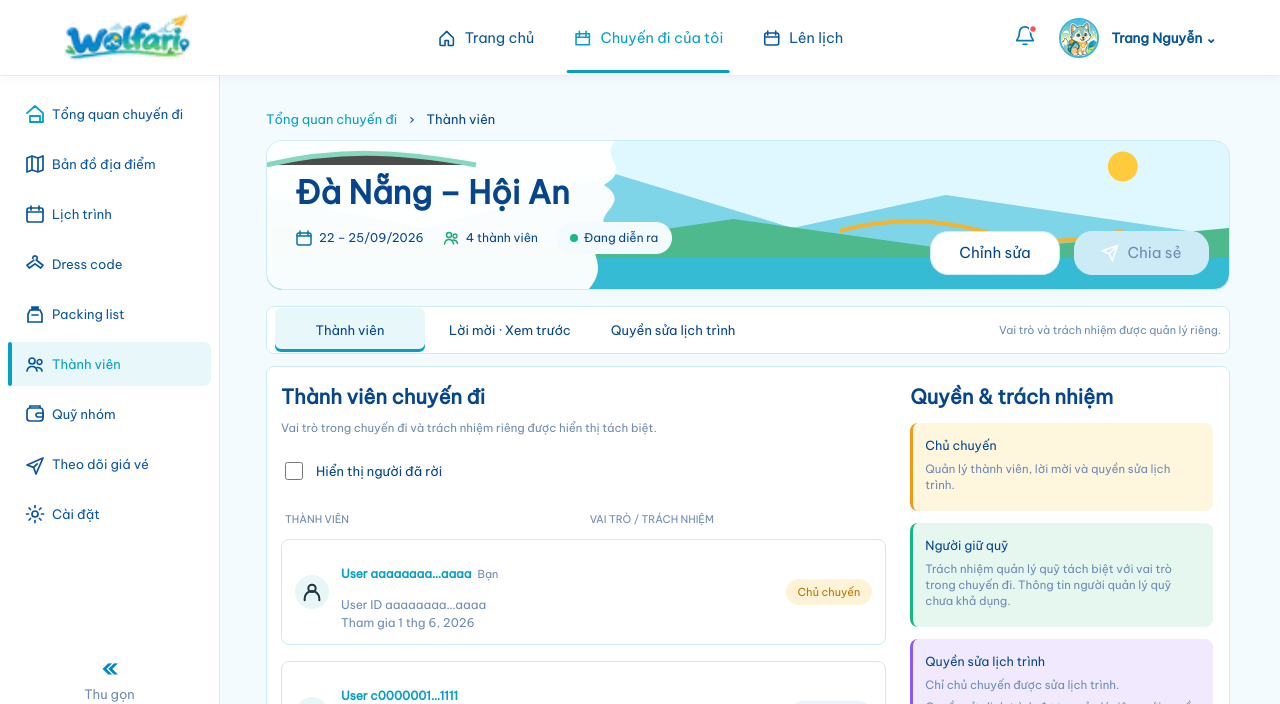
retains the policy draft after conflict, refetches revision, and requires an explicit new submission
Step 1. Click the button "Quyền sửa lịch trình" → (673, 330), box 595,308 -> 751,352
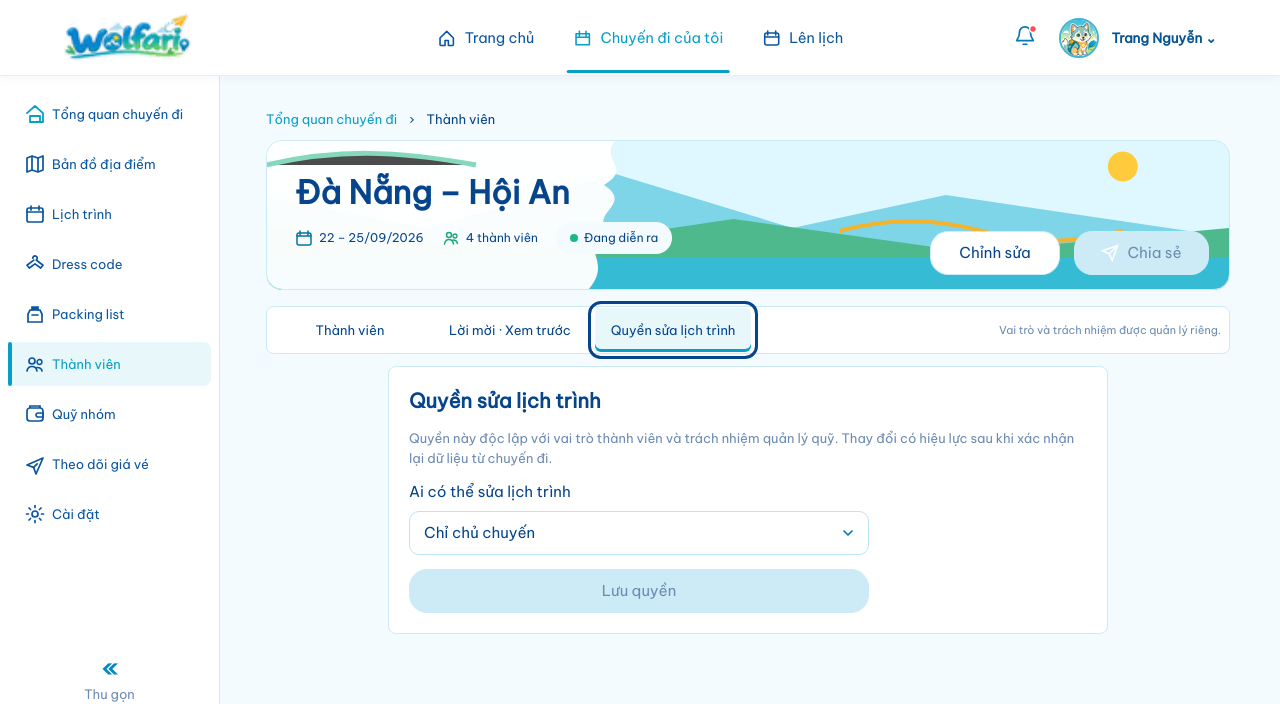
Step 2. Select "Mọi thành viên đang hoạt động" in the dropdown labelled "Ai có thể sửa lịch trình" → (639, 533), box 409,511 -> 869,555
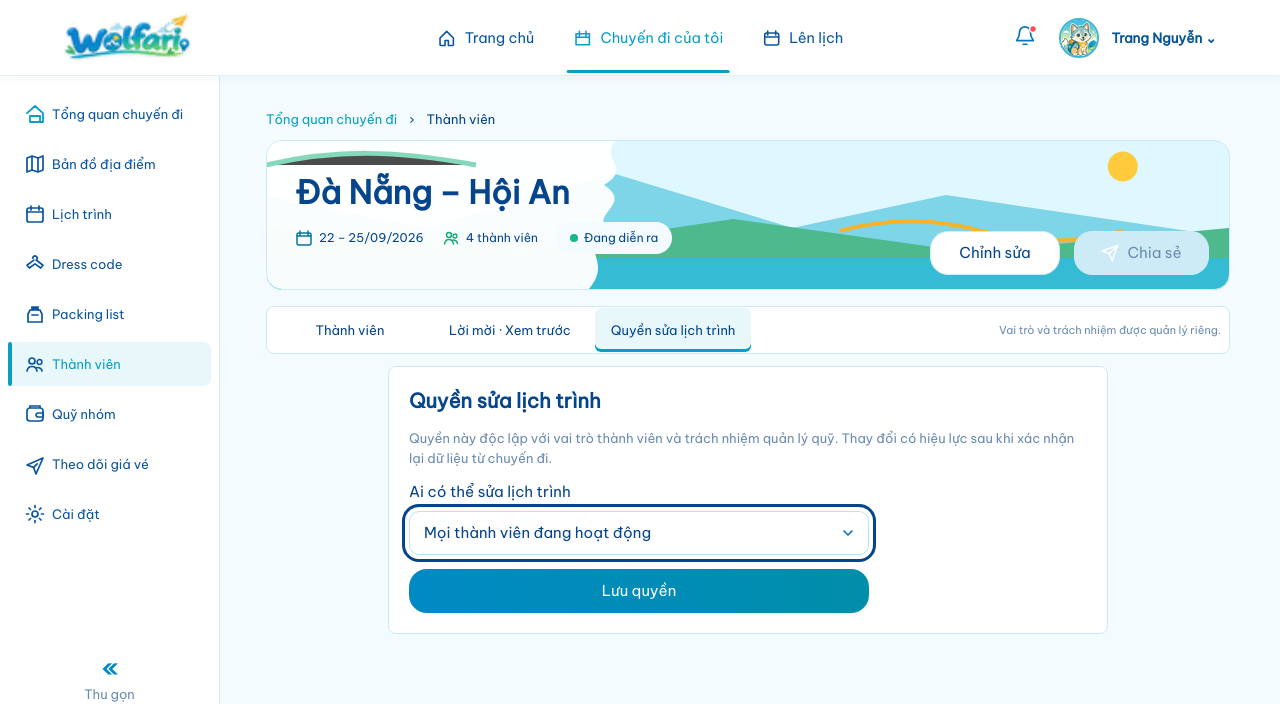
Step 3. Click the button "Lưu quyền" → (639, 591), box 409,569 -> 869,613
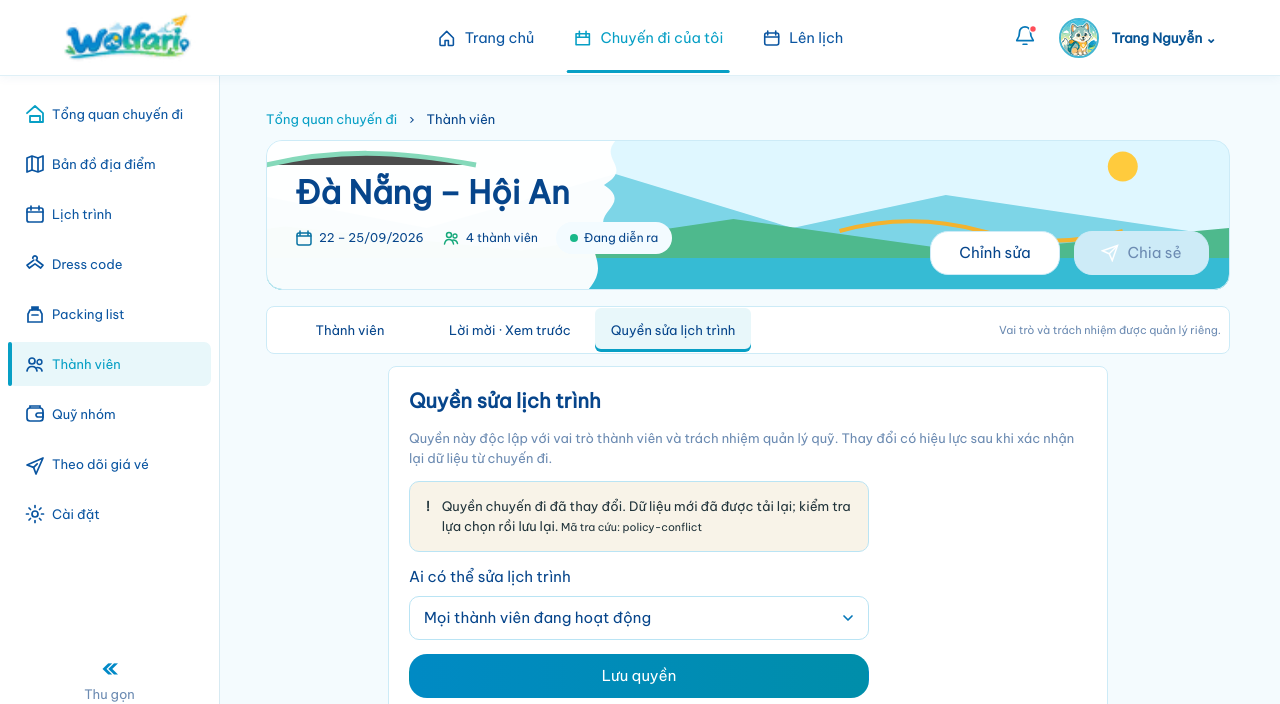
Expected: the text "Quyền chuyến đi đã thay đổi" is shown, 442,498 -> 851,534
Step 4. Click the button "Lưu quyền" → (639, 676), box 409,654 -> 869,698
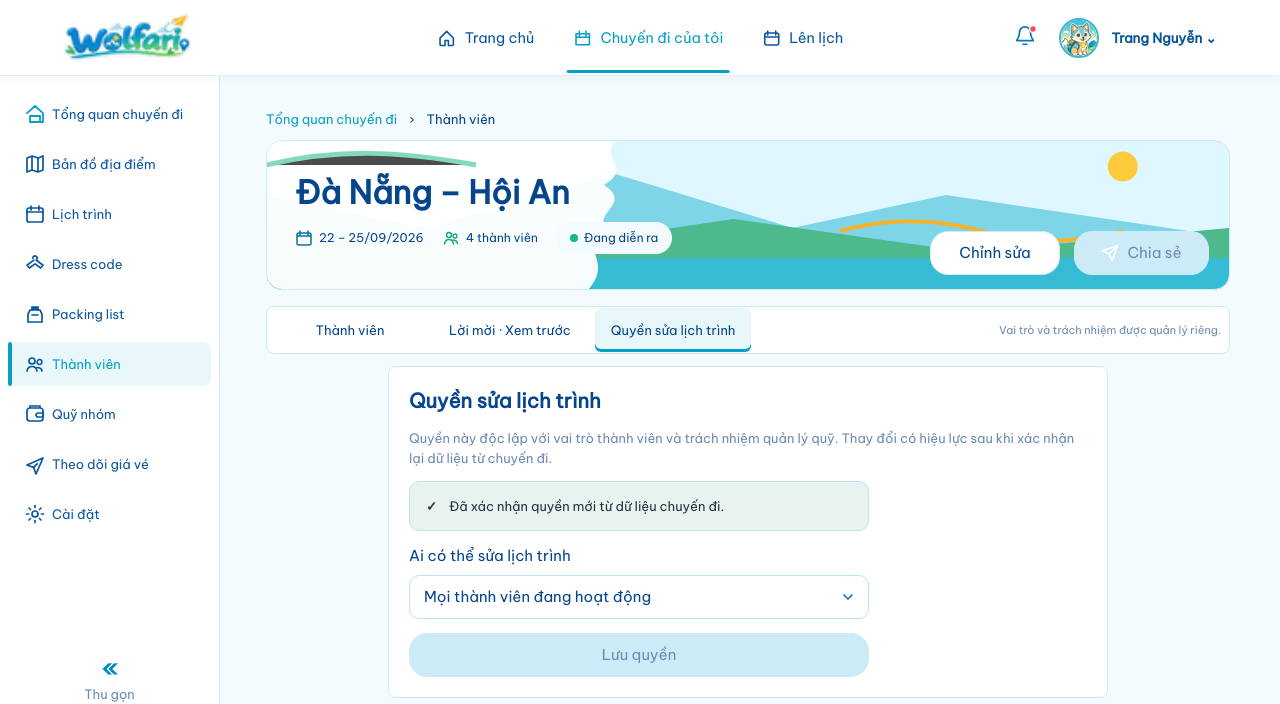
Expected: the text "Đã xác nhận quyền mới từ dữ liệu chuyến đi." is shown, 449,498 -> 724,514
